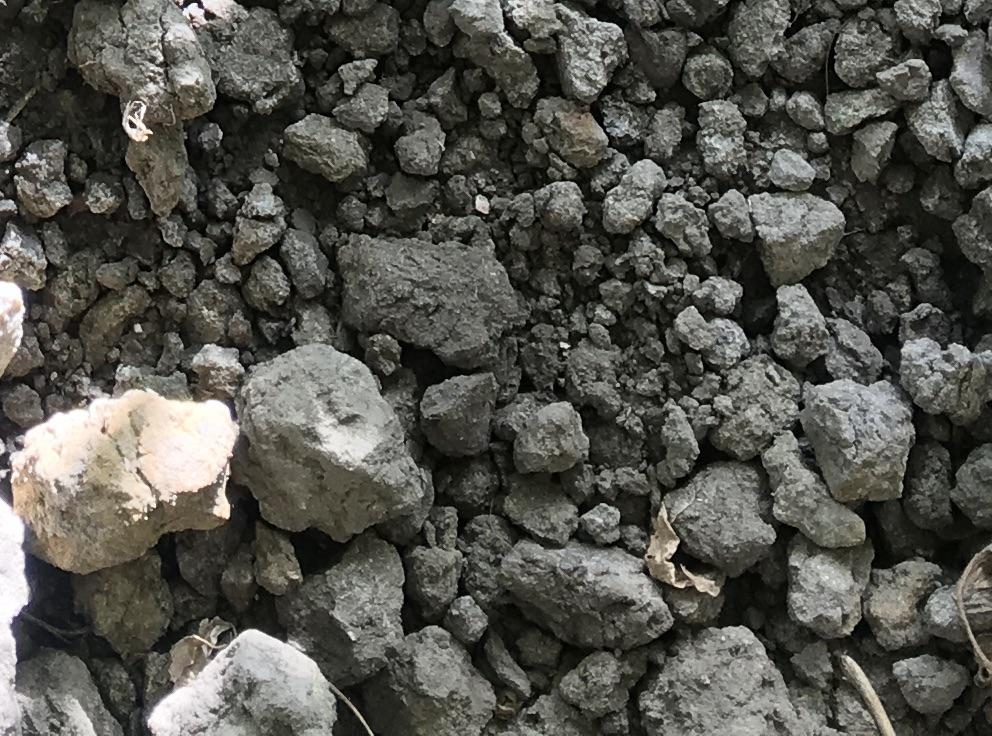block: (7, 394, 237, 574), (240, 345, 423, 544), (65, 1, 215, 127)
